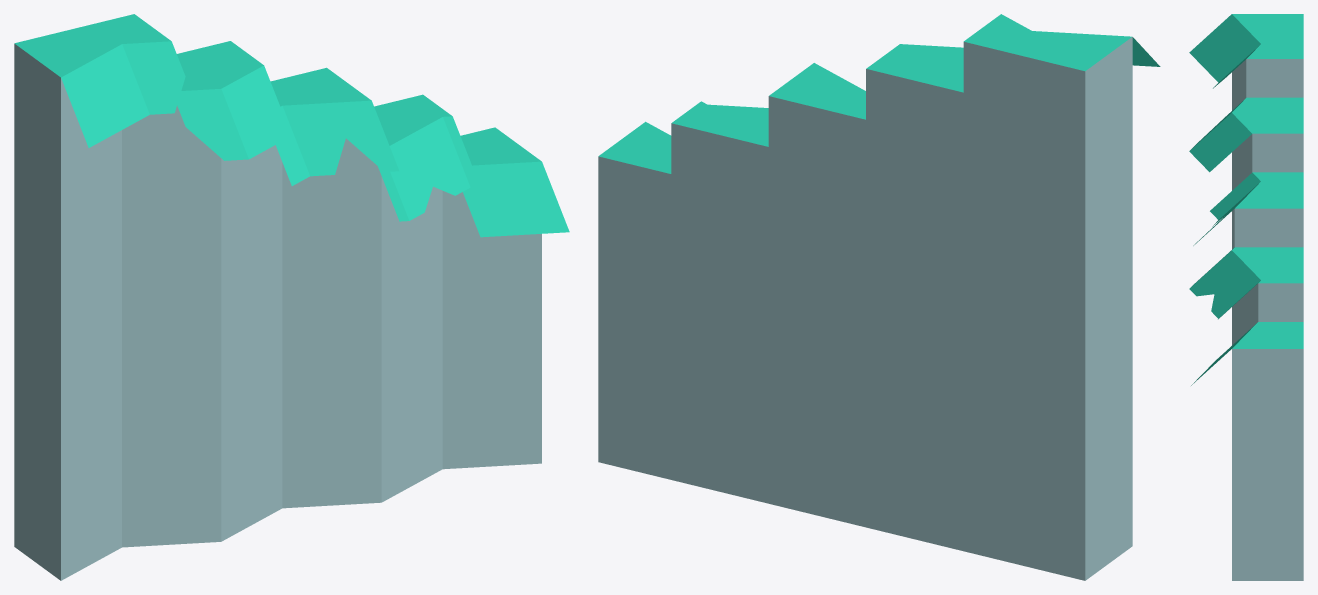
The model's file is cliff_stairBorder_upper_left_stone.fbx.
The picture shows the model from 3 angles, left to right: view 1: azimuth 30°, elevation 25°; view 2: azimuth 150°, elevation 25°; view 3: azimuth 270°, elevation 25°; orthographic projection. The views are drawn at different scales.
Visible parts, largest first — view 1: cliff_top_stone; view 2: cliff_top_stone; view 3: cliff_top_stone.
Boxes of the visible parts, x1,y1,x2,y2 form: cliff_top_stone: (14,14,569,580); cliff_top_stone: (598,14,1160,580); cliff_top_stone: (1189,14,1303,580).
Bounding box in the file's own units: 10 × 10 × 2.68.
